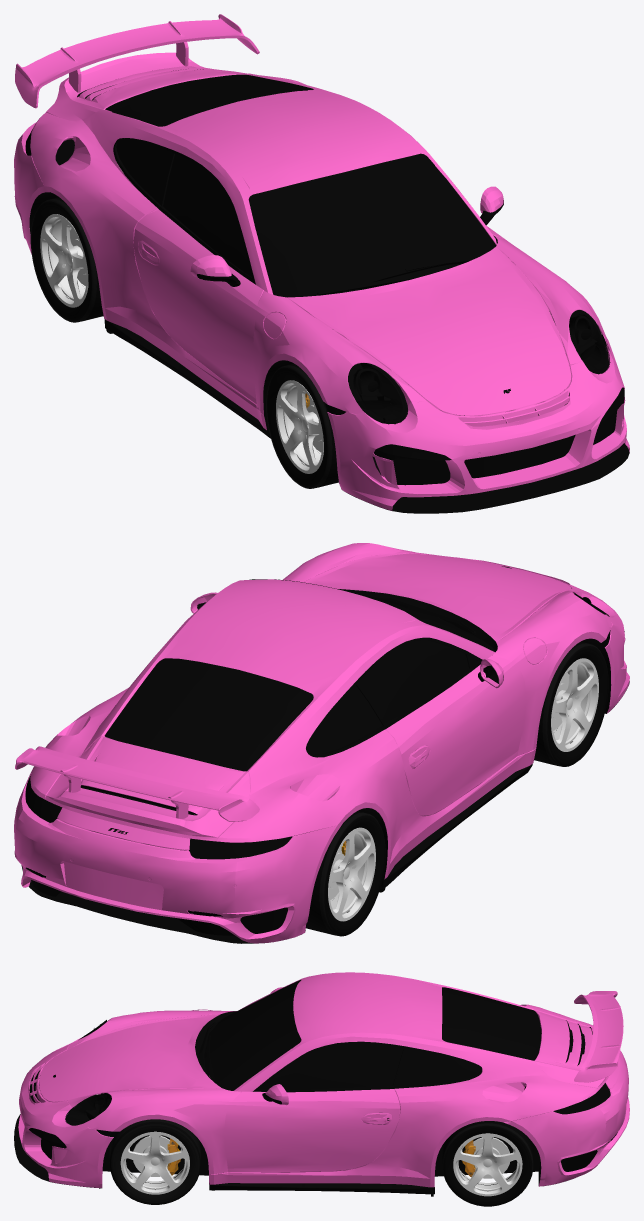
File: car.glb
3 views of the same model, one above another, from view 1: azimuth 30°, elevation 25°; view 2: azimuth 150°, elevation 25°; view 3: azimuth 270°, elevation 25° (orthographic). The views are drawn at different scales.
Visible parts, largest first — view 1: Object_6, Object_7, Object_10, Object_11, Object_3, Object_13, Object_9; view 2: Object_6, Object_7, Object_10, Object_11, Object_13, Object_3, Object_9; view 3: Object_6, Object_7, Object_11, Object_10, Object_3, Object_13, Object_9, Object_12.
Boxes of the visible parts, bbox=[...] form: Object_6: bbox=[14, 14, 629, 510]; Object_7: bbox=[105, 74, 495, 297]; Object_10: bbox=[25, 90, 629, 513]; Object_11: bbox=[40, 214, 323, 473]; Object_3: bbox=[77, 69, 606, 437]; Object_13: bbox=[31, 197, 338, 487]; Object_9: bbox=[30, 199, 332, 488]; Object_6: bbox=[14, 543, 629, 943]; Object_7: bbox=[104, 579, 493, 770]; Object_10: bbox=[21, 589, 629, 943]; Object_11: bbox=[328, 658, 598, 921]; Object_13: bbox=[306, 641, 607, 935]; Object_3: bbox=[80, 566, 605, 888]; Object_9: bbox=[319, 643, 608, 936]; Object_6: bbox=[18, 972, 629, 1187]; Object_7: bbox=[204, 980, 541, 1090]; Object_11: bbox=[120, 1131, 522, 1196]; Object_10: bbox=[14, 984, 617, 1196]; Object_3: bbox=[53, 1020, 592, 1193]; Object_13: bbox=[110, 1121, 533, 1205]; Object_9: bbox=[109, 1119, 533, 1206]; Object_12: bbox=[167, 1138, 475, 1176].
Size of the model in its own units: 7.54 by 5.1 by 18.01.
9 materials, 2 textured.
